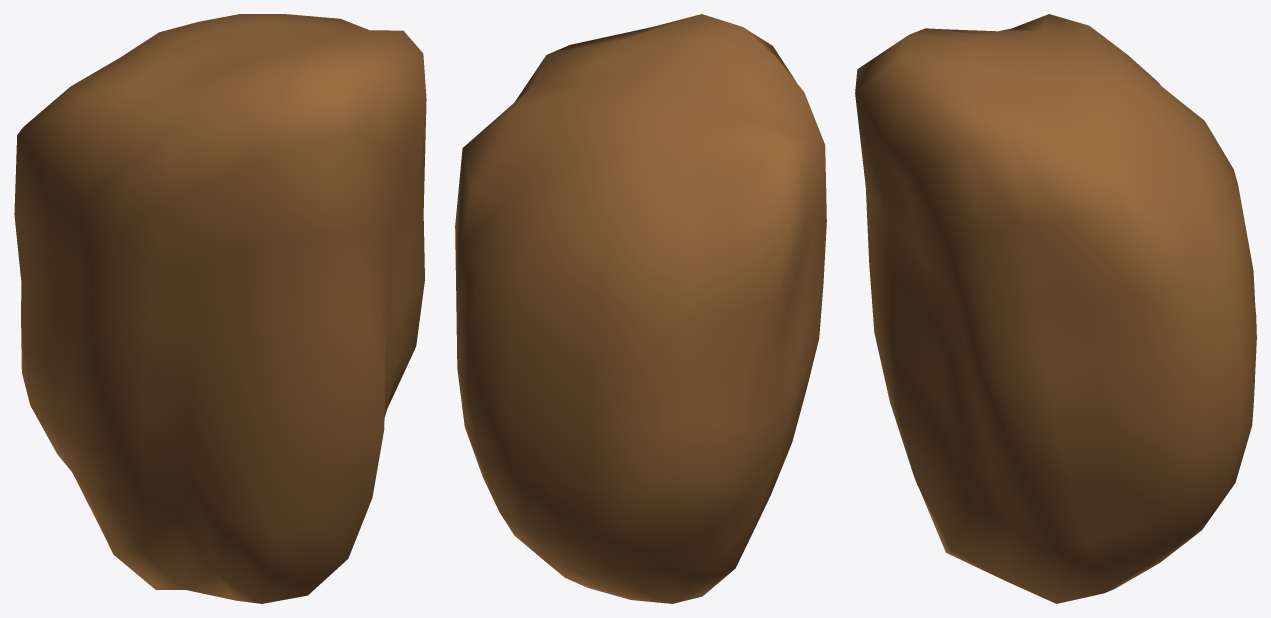
File: haustellum_body.obj
The picture shows the model from 3 angles, left to right: view 1: azimuth 30°, elevation 25°; view 2: azimuth 150°, elevation 25°; view 3: azimuth 270°, elevation 25°; orthographic projection. The views are drawn at different scales.
Size of the model in its own units: 0.0173 by 0.0262 by 0.018.
